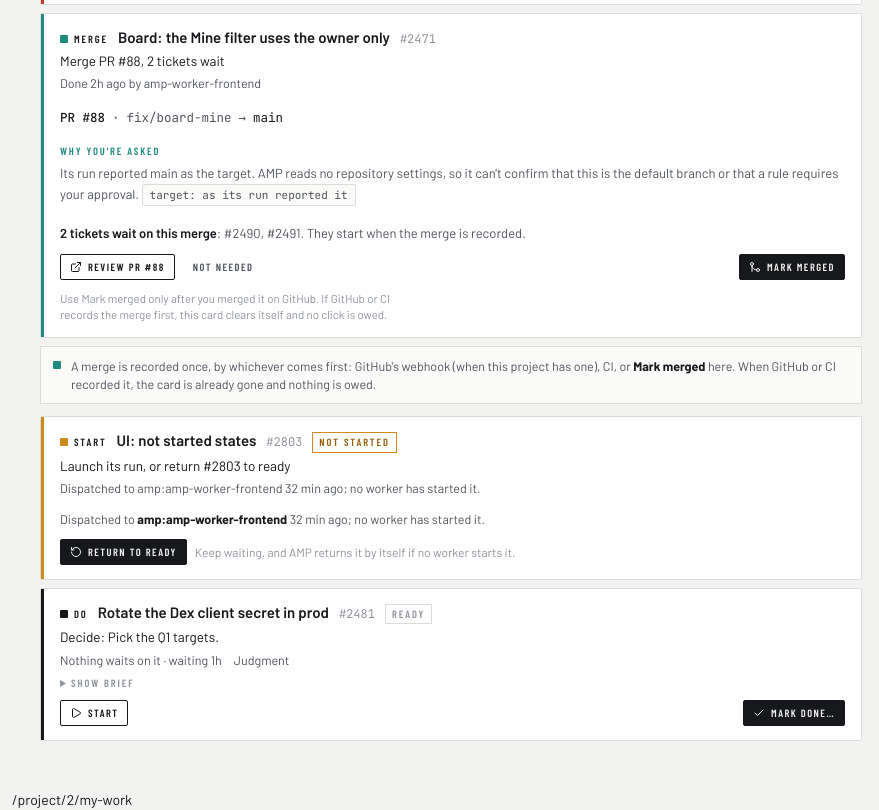
Test: My work tab: what each item needs from you › a judgment ticket says "Decide" with the first sentence of its brief, and folds the brief
(page scrolled)
Expected: the text "Decide: Pick the Q1 targets." is shown, [60,628,219,646]
Step 1. Click the heading "Show brief" → [103, 682], box [71,676,134,689]
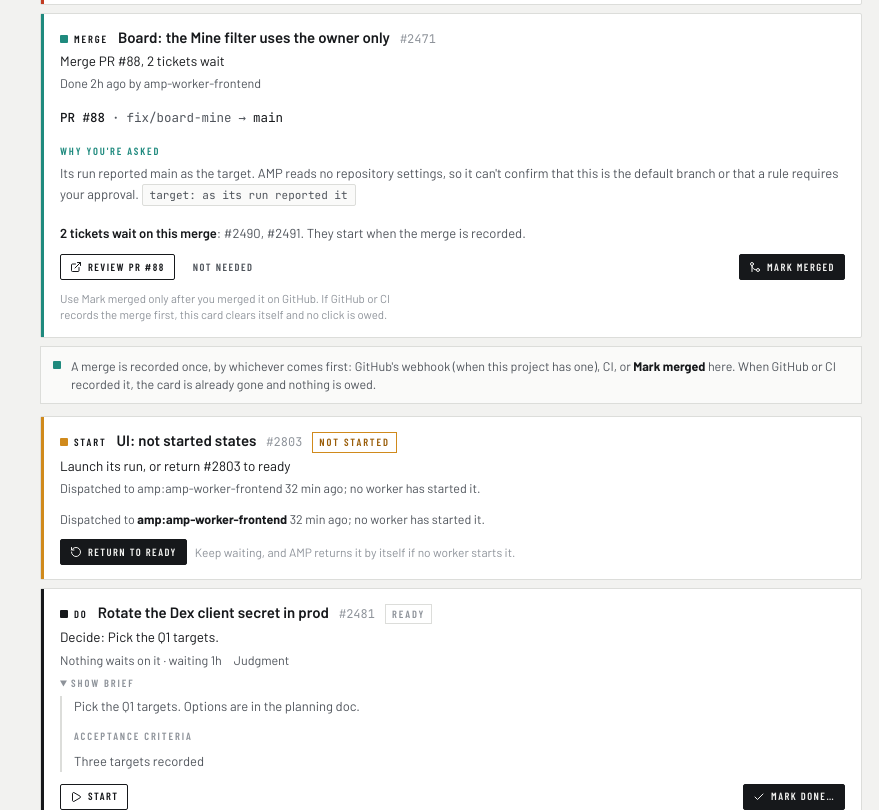
Result: the text "Pick the Q1 targets. Options are in the planning doc." is shown at [74,698,360,714]
Result: the text "Three targets recorded" is shown at [74,752,204,768]
